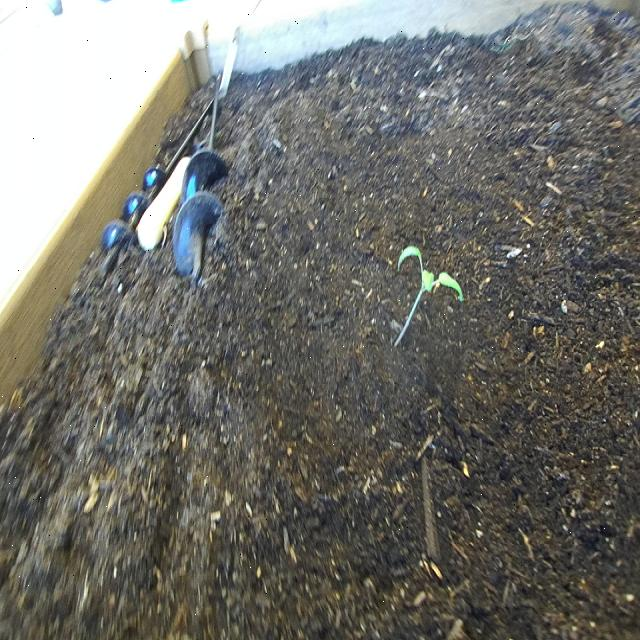Healthy: (388, 228, 466, 358)
